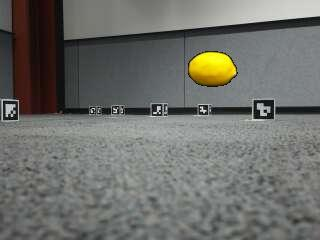lemon: (190, 53, 237, 87)
